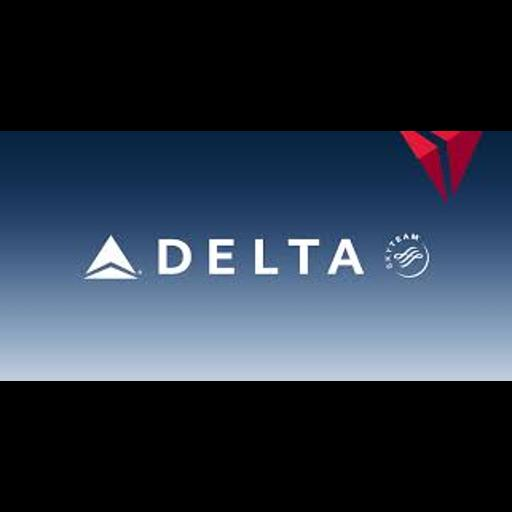Delta Air Lines: (0, 131, 512, 381)
